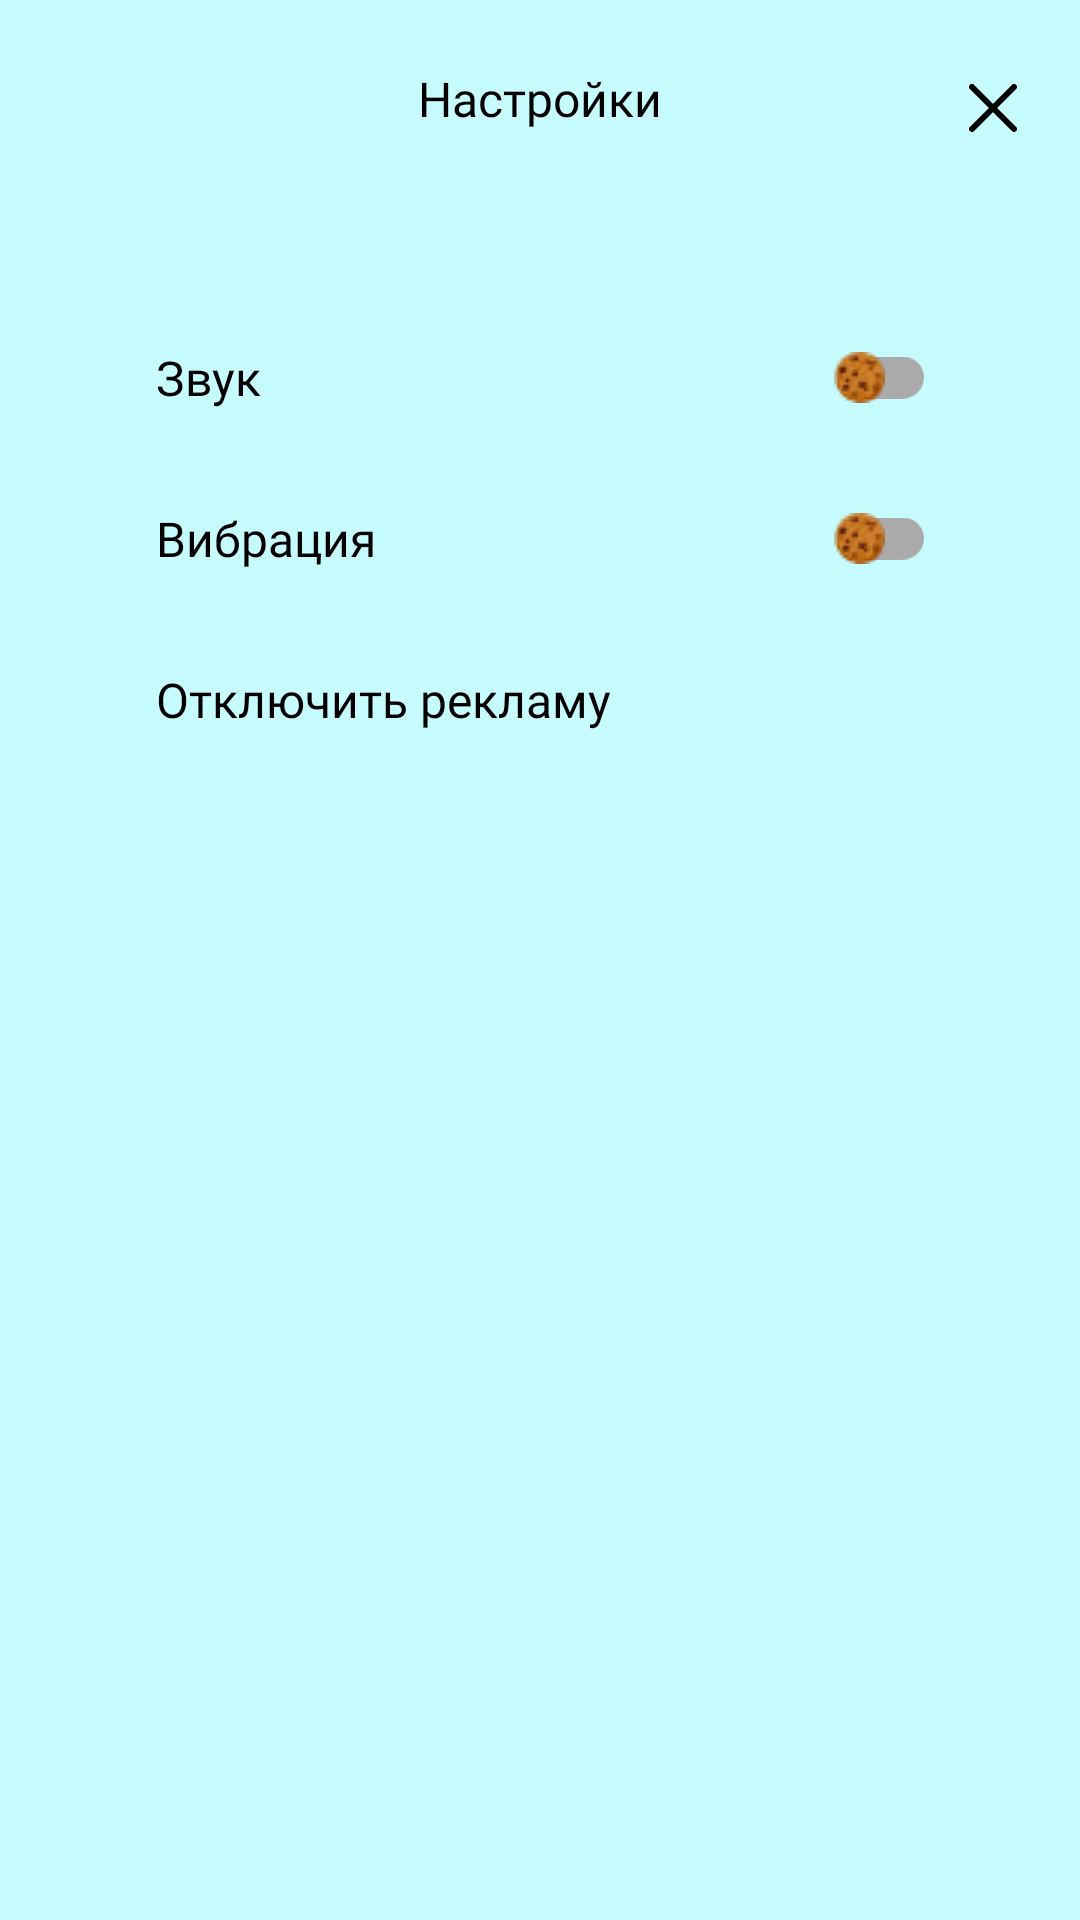

Named icons in this screenshot (1080 x 1920) and their centers, (x=x, y=y):
close just: (x=993, y=108)
